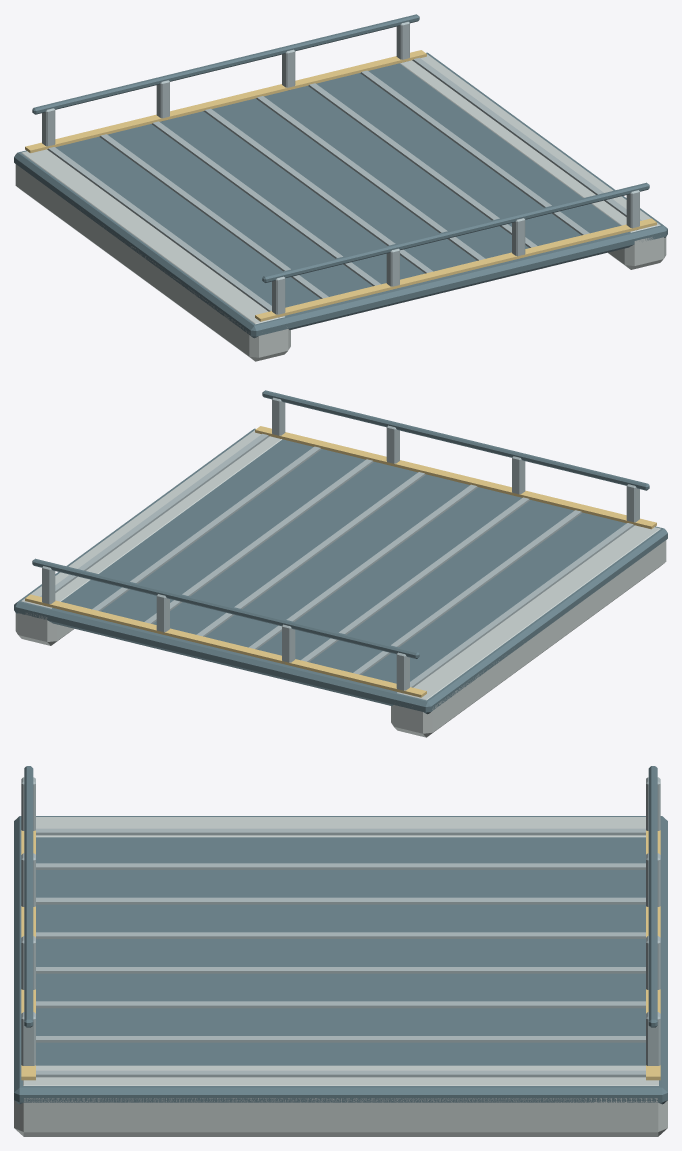
Rendered from bridge.glb.
3 views of the same model, one above another, from view 1: azimuth 30°, elevation 25°; view 2: azimuth 150°, elevation 25°; view 3: azimuth 270°, elevation 25° (orthographic). The views are drawn at different scales.
Parts seen in each view (by area): view 1: asset_bridge__FP_Armour, asset_bridge__FP_Steel, asset_bridge__FP_Concrete, asset_bridge__FP_Hazard; view 2: asset_bridge__FP_Armour, asset_bridge__FP_Steel, asset_bridge__FP_Concrete, asset_bridge__FP_Hazard; view 3: asset_bridge__FP_Armour, asset_bridge__FP_Concrete, asset_bridge__FP_Steel, asset_bridge__FP_Hazard.
Boxes of the visible parts, box(x1,y1,x2,y2) form: asset_bridge__FP_Armour: box(14, 14, 667, 338); asset_bridge__FP_Steel: box(42, 21, 641, 317); asset_bridge__FP_Concrete: box(15, 54, 666, 361); asset_bridge__FP_Hazard: box(25, 50, 656, 321); asset_bridge__FP_Armour: box(14, 390, 667, 714); asset_bridge__FP_Steel: box(40, 397, 639, 693); asset_bridge__FP_Concrete: box(15, 430, 666, 737); asset_bridge__FP_Hazard: box(25, 426, 656, 697); asset_bridge__FP_Armour: box(14, 766, 667, 1104); asset_bridge__FP_Concrete: box(14, 817, 667, 1136); asset_bridge__FP_Steel: box(21, 777, 660, 1077); asset_bridge__FP_Hazard: box(21, 830, 660, 1080).
Bounding box in the file's own units: 4 × 0.7425 × 4.
